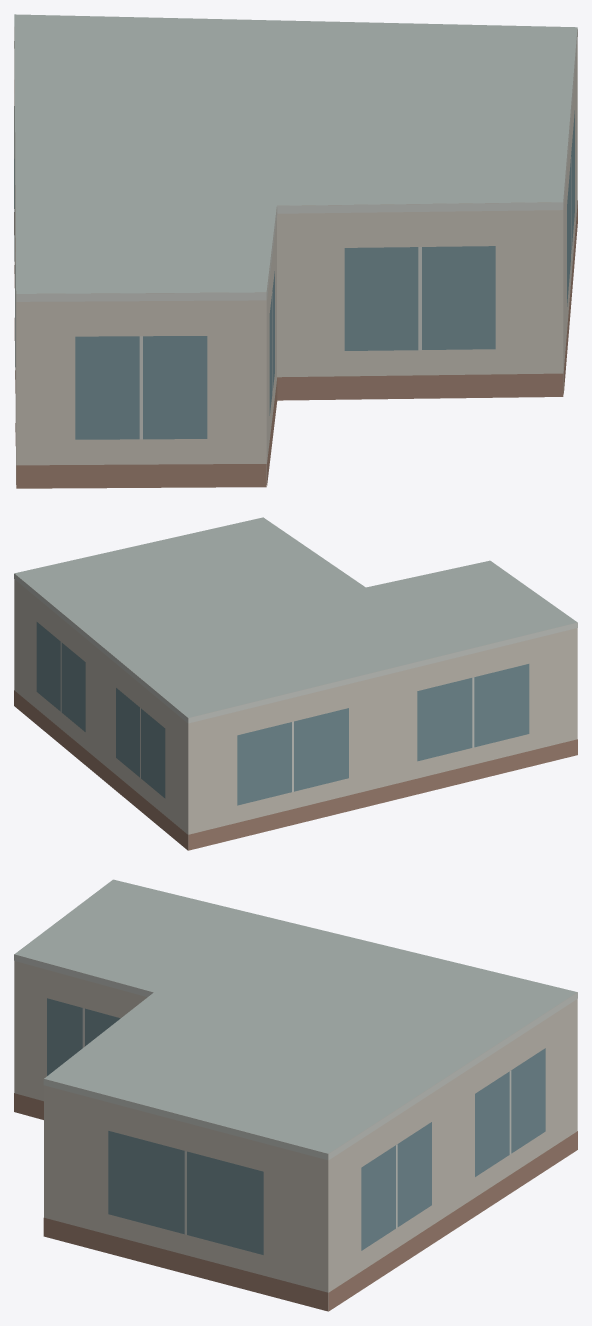
The model's file is survey-upis-32947154.glb.
3 renders of one model, top to bottom at view 1: azimuth 30°, elevation 25°; view 2: azimuth 150°, elevation 25°; view 3: azimuth 270°, elevation 25°, orthographic. The views are drawn at different scales.
Parts seen in each view (by area): view 1: survey-upis-32947154.tmp; view 2: survey-upis-32947154.tmp; view 3: survey-upis-32947154.tmp.
Boxes of the visible parts, x1,y1,x2,y2 form: survey-upis-32947154.tmp: (14, 14, 577, 488); survey-upis-32947154.tmp: (14, 517, 577, 850); survey-upis-32947154.tmp: (14, 879, 577, 1311).
Size of the model in its own units: 11.4 by 3.05 by 9.89.
